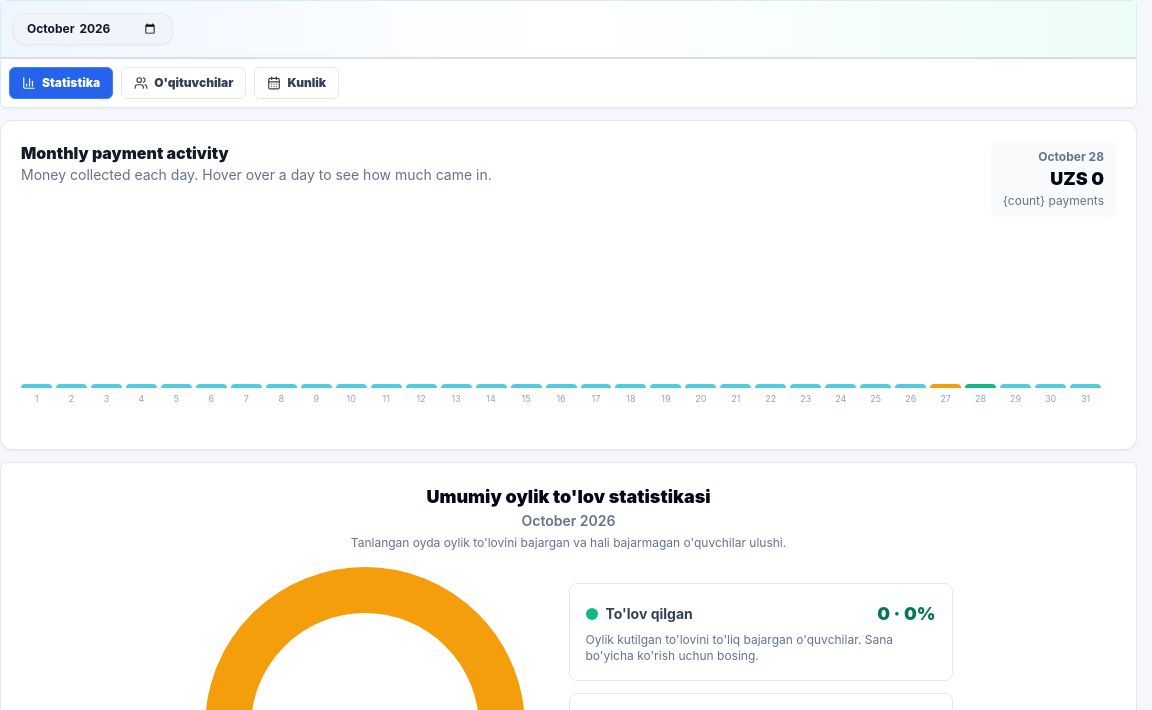
Test case: OwnerFinancePanel daily tab › shows the daily view and hides the other views when Kunlik is clicked
The width and height of the screenshot is (1152, 710).
Replace the text in the field with "2026-08": (93, 29) x1=13 y1=13 x2=173 y2=45
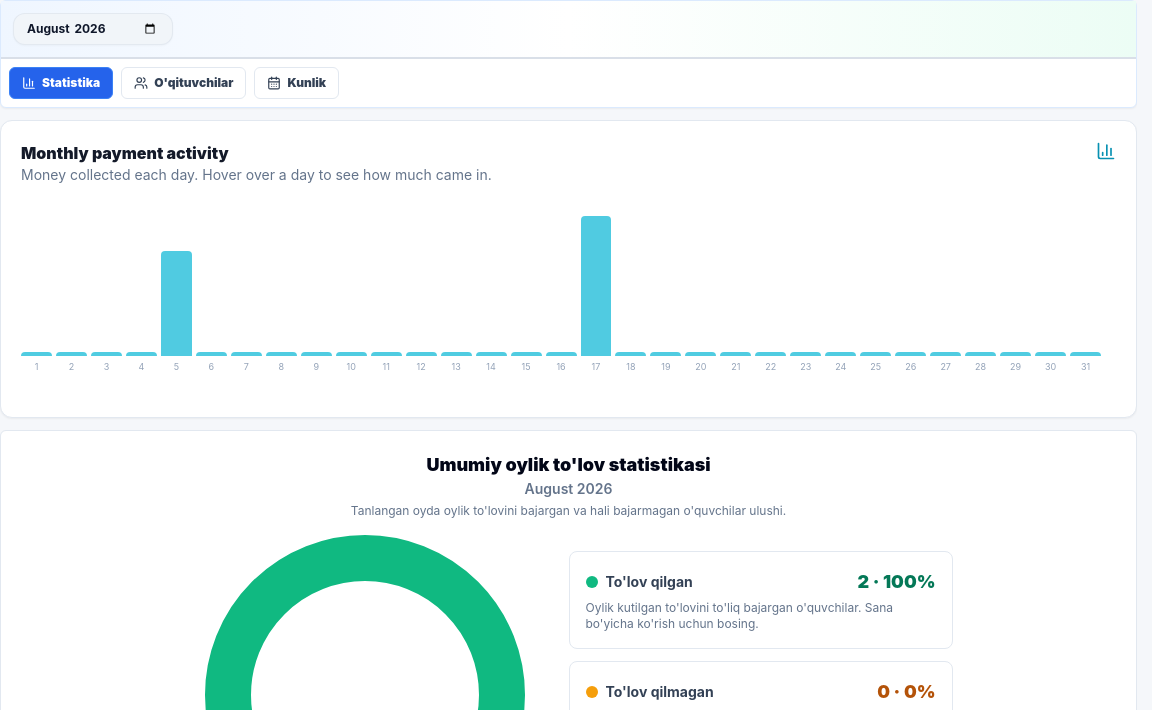
Click the button "Kunlik": (297, 83) x1=254 y1=67 x2=339 y2=99
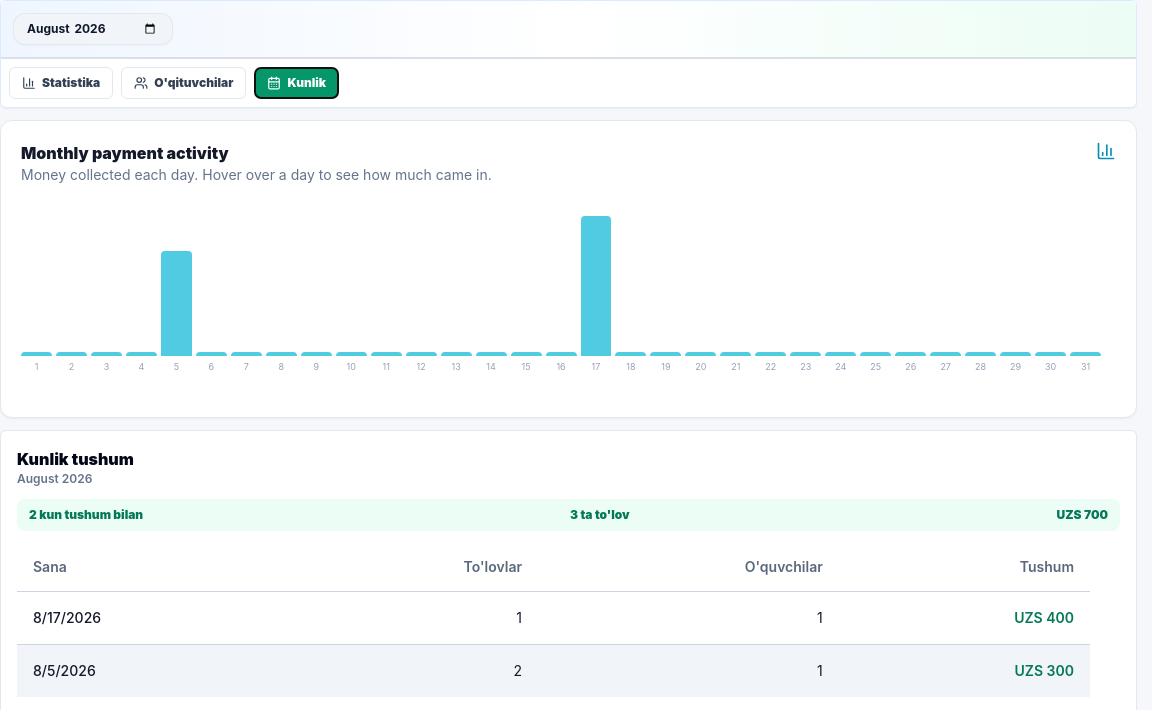
Now the text "Kunlik tushum" is shown, box x1=17 y1=449 x2=134 y2=469
Now the text "Umumiy oylik to'lov statistikasi" is gone
